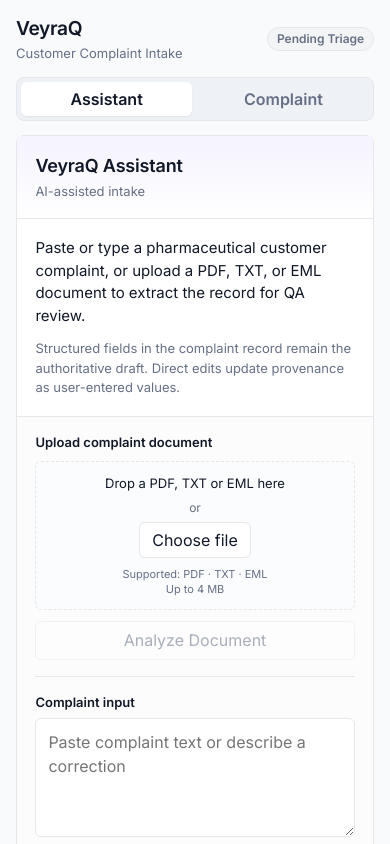
Scenario: ComplaintWorkspace UI › renders canonical field labels
The width and height of the screenshot is (390, 844).
Click the tab "Complaint": (283, 99) [198, 82, 369, 116]
(page scrolled)
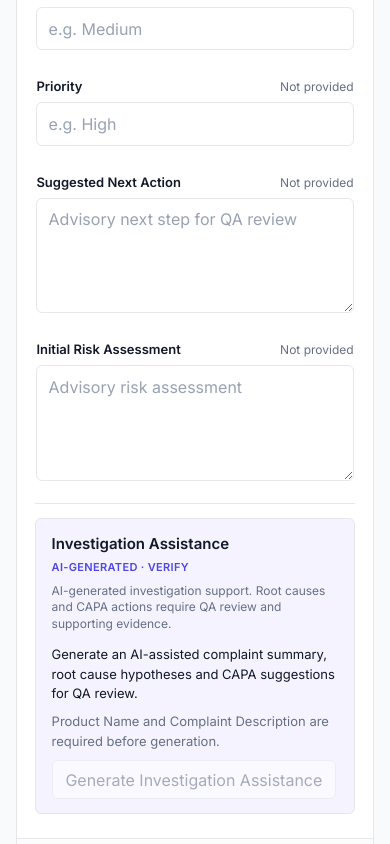
Now the text box labelled "Initial Risk Assessment" is shown, box [36, 365, 354, 481]
